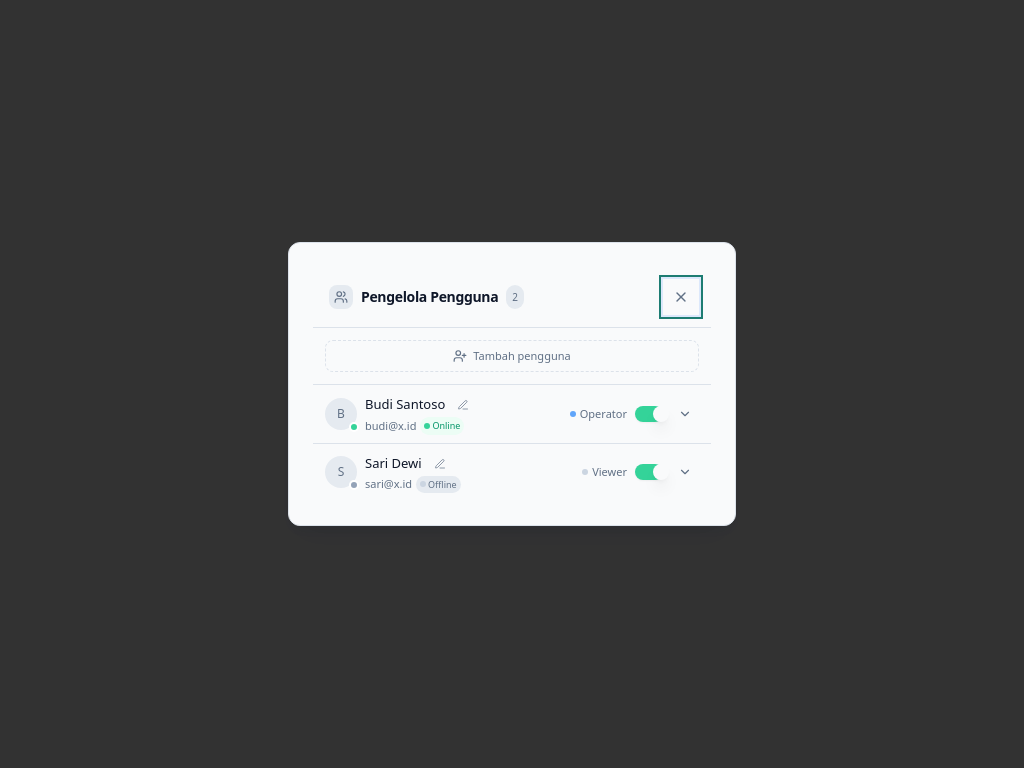
Test case: Ubah nama berdiri di samping namanya › menekannya membuka kolom isian, bukan melipat baris
This screenshot has width=1024, height=768.
Click the button with test id "user-ubah-nama-u-1" at (463,405), box [451,393,475,417]
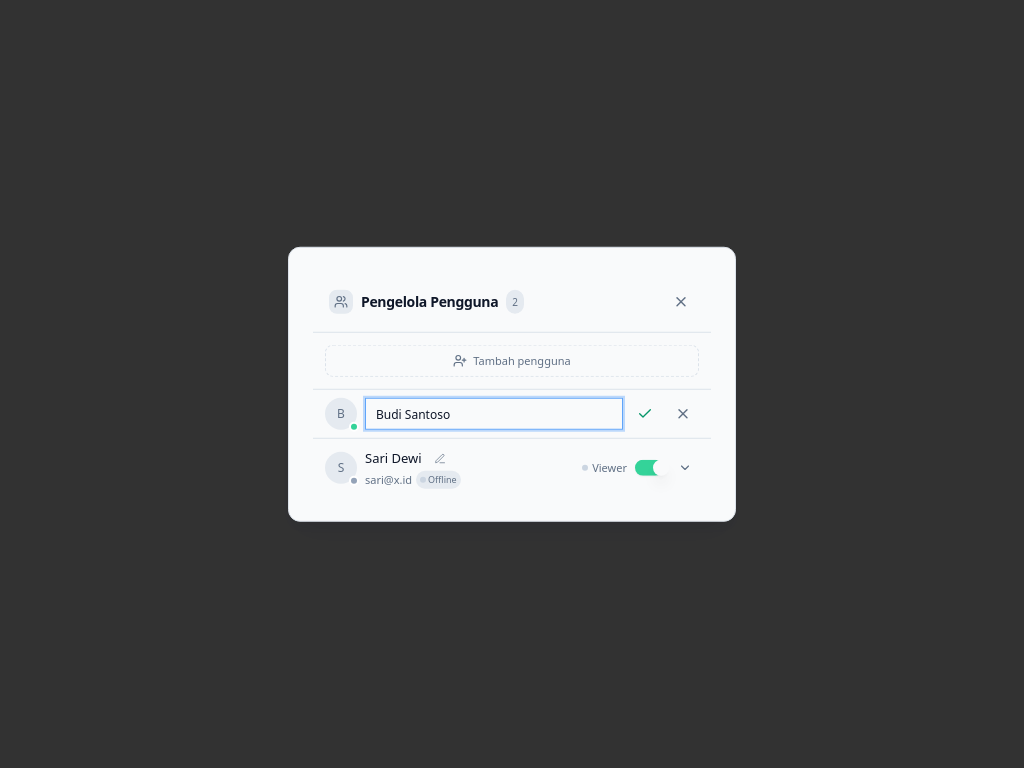
expect the field with test id "user-nama-input-u-1" holds "Budi Santoso": met, box [365,398,623,430]
